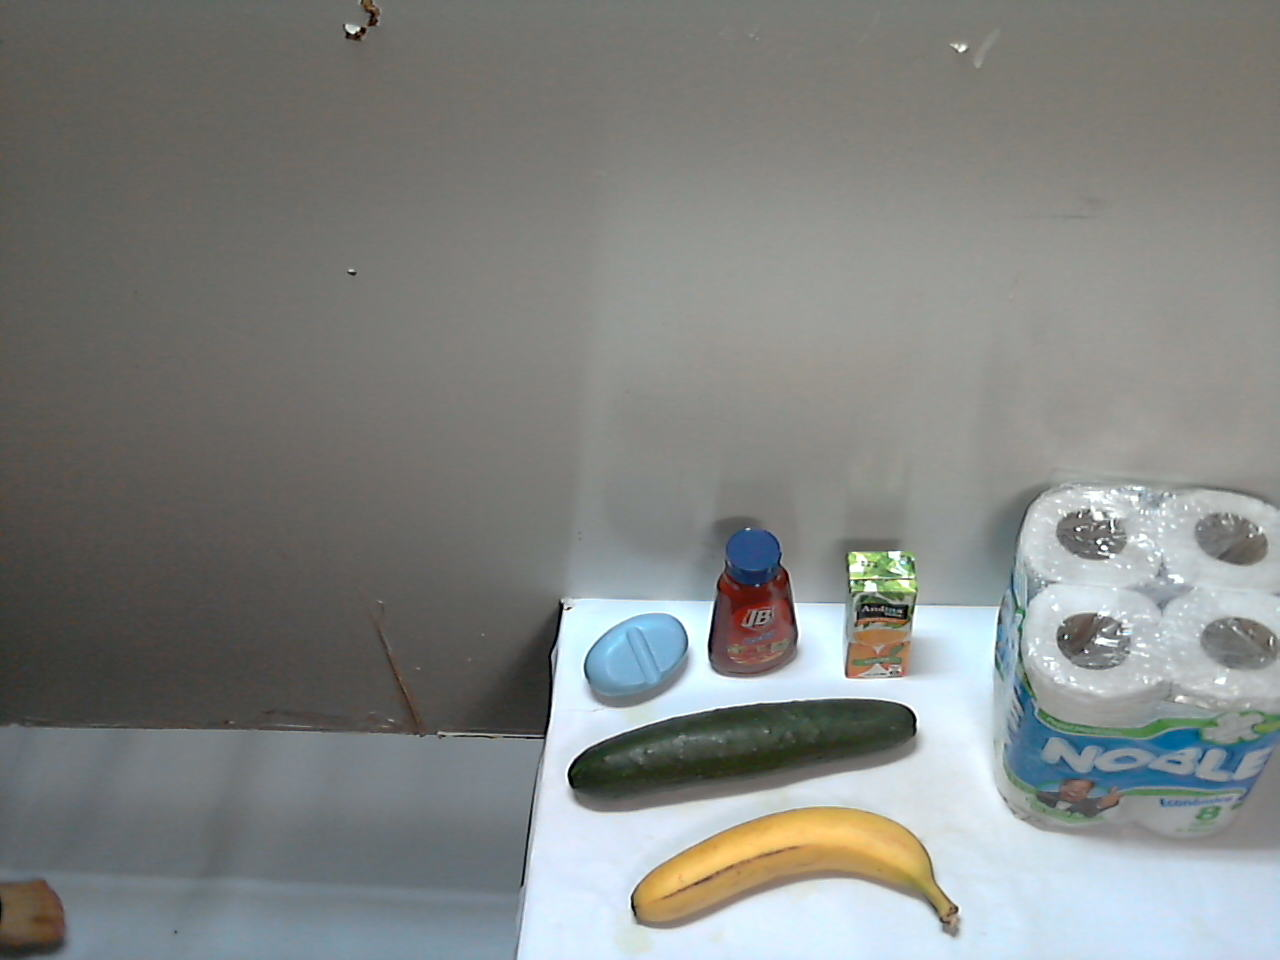confort: (846, 550, 1164, 913)
jabon: (624, 798, 721, 936)
jugoind: (613, 594, 691, 757)
ketchup: (738, 586, 844, 754)
pepino: (486, 625, 592, 960)
platano: (727, 736, 974, 960)
